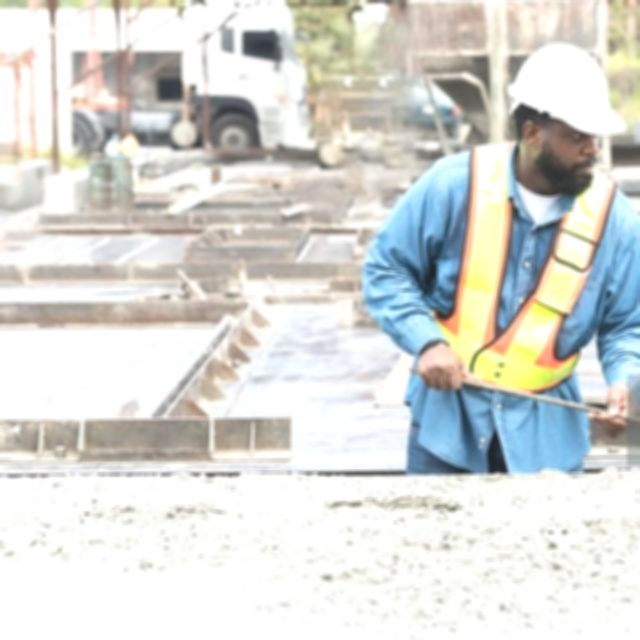Con_Casco: (508, 40, 624, 196)
Con_Chaleco: (431, 142, 610, 392)
